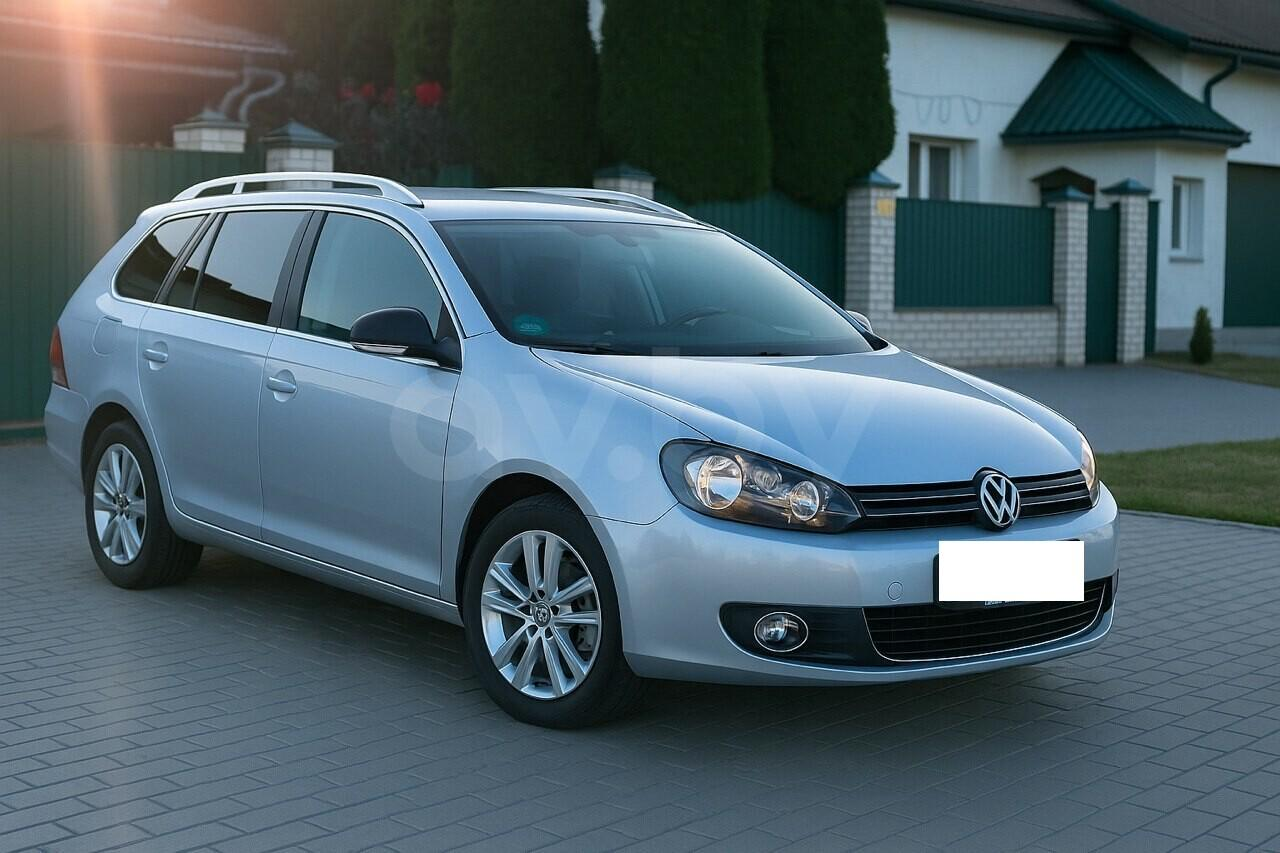Golf_2008-2013: (43, 184, 1123, 732)
